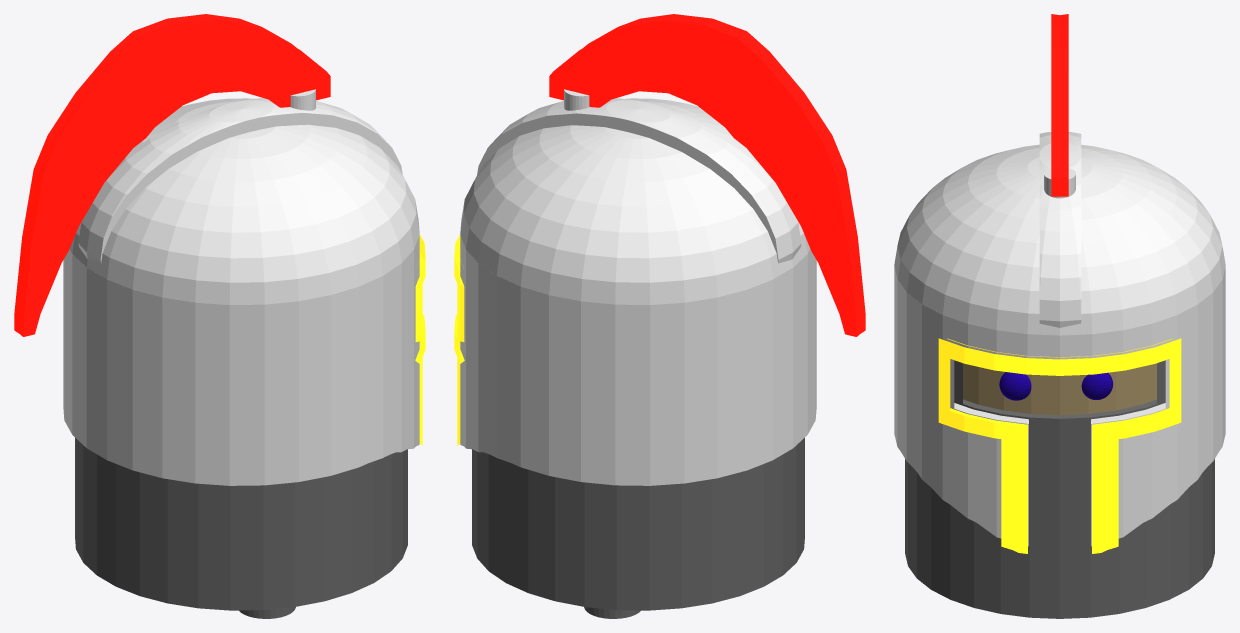
File: MainCharactermain.fbx
The picture shows the model from 3 angles, left to right: view 1: azimuth 30°, elevation 25°; view 2: azimuth 150°, elevation 25°; view 3: azimuth 270°, elevation 25°; orthographic projection. The views are drawn at different scales.
Parts seen in each view (by area): view 1: Character; view 2: Character; view 3: Character.
Part boxes in pixels (x1,y1,x2,y2): Character: (14,14,425,618); Character: (454,14,865,618); Character: (894,14,1225,618).
Bounding box in the file's own units: 264 × 385 × 214.
